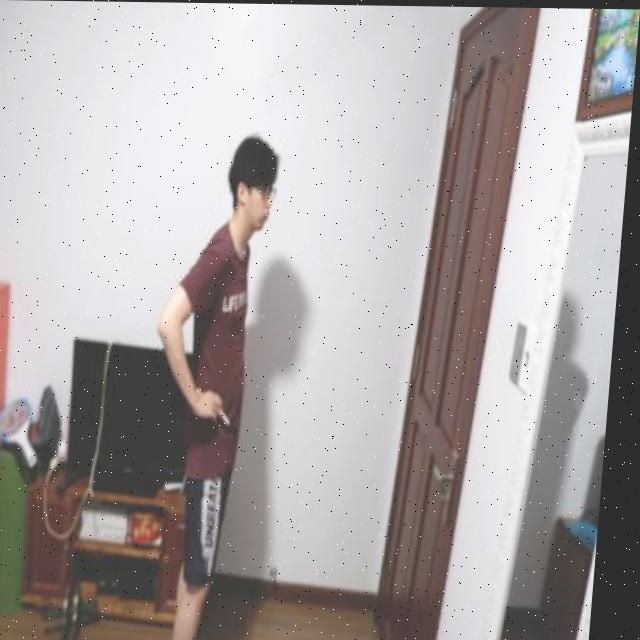cigarette: (224, 407, 239, 427)
